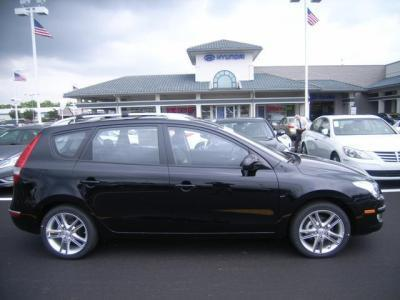Car: (9, 114, 389, 265), (297, 103, 400, 205)
